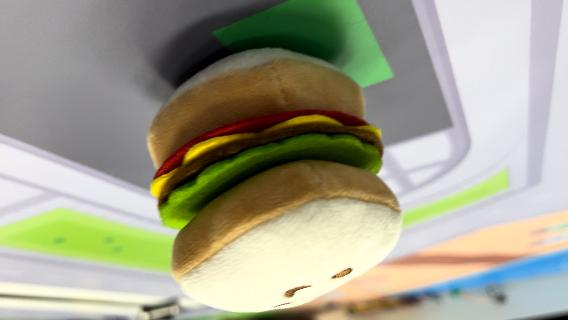sandwich: (144, 46, 406, 312)
